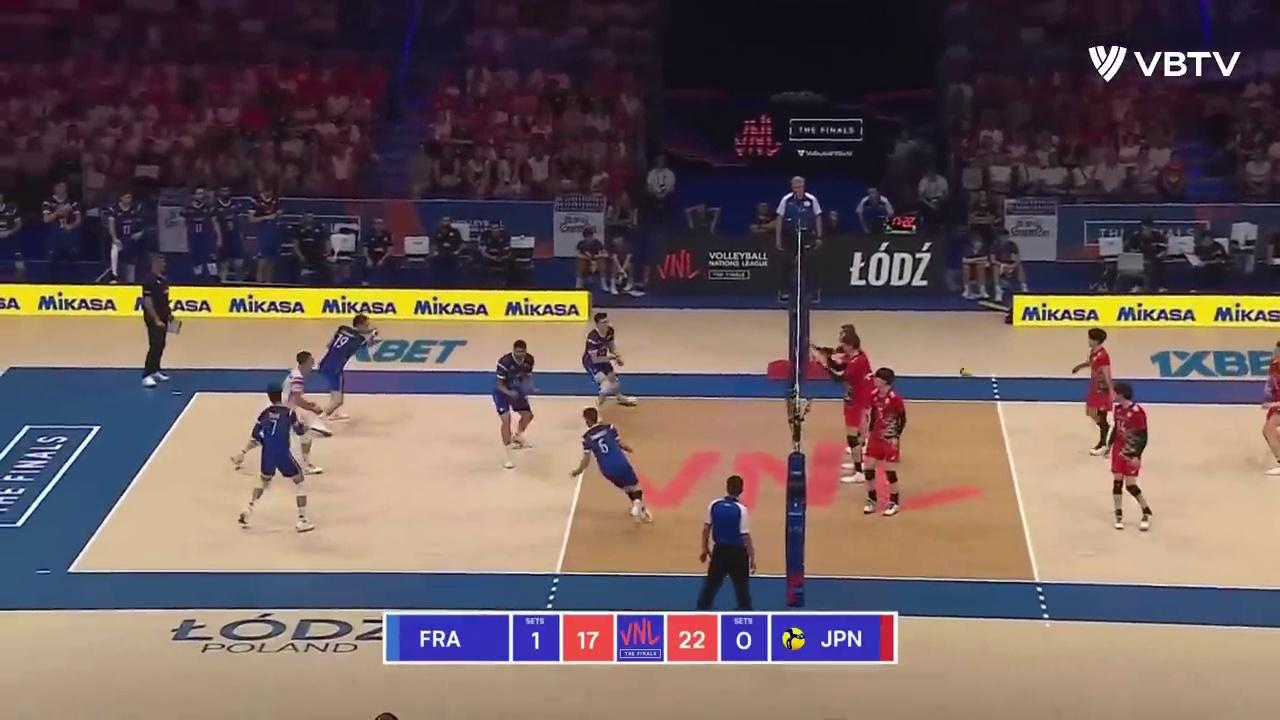ball: (958, 364, 971, 377)
